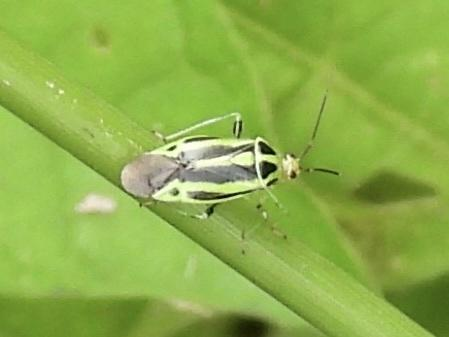plant_bugs: (107, 80, 364, 271)
